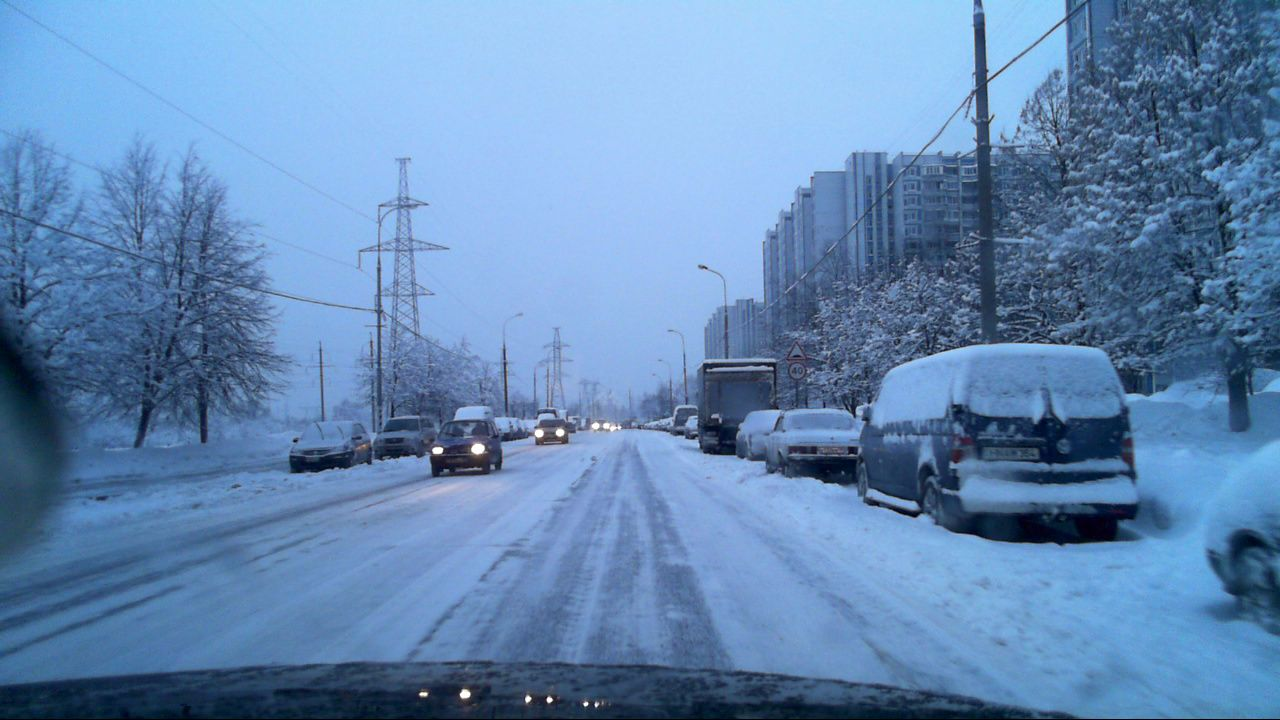speed_warning_40: (789, 361, 808, 379)
